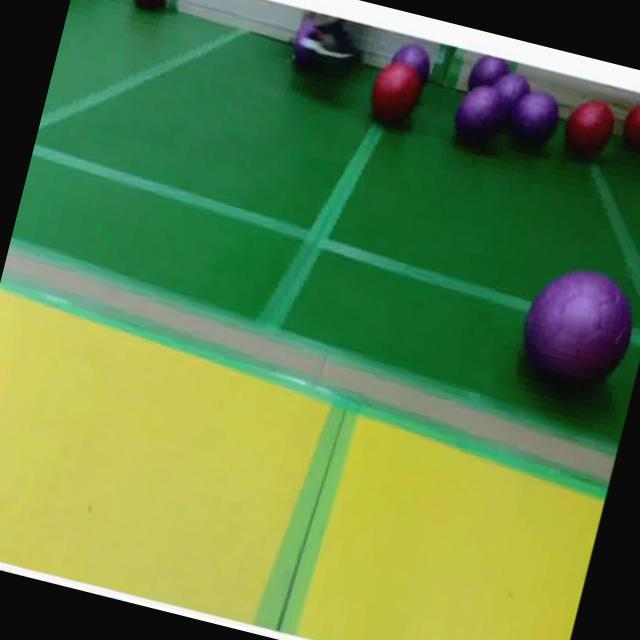purple_ball: (511, 258, 640, 408), (446, 84, 510, 158), (502, 85, 566, 158), (482, 68, 536, 131), (464, 52, 512, 108), (391, 34, 434, 68)
red_ball: (559, 98, 619, 168), (364, 64, 424, 132), (617, 95, 640, 163), (119, 0, 171, 14)
